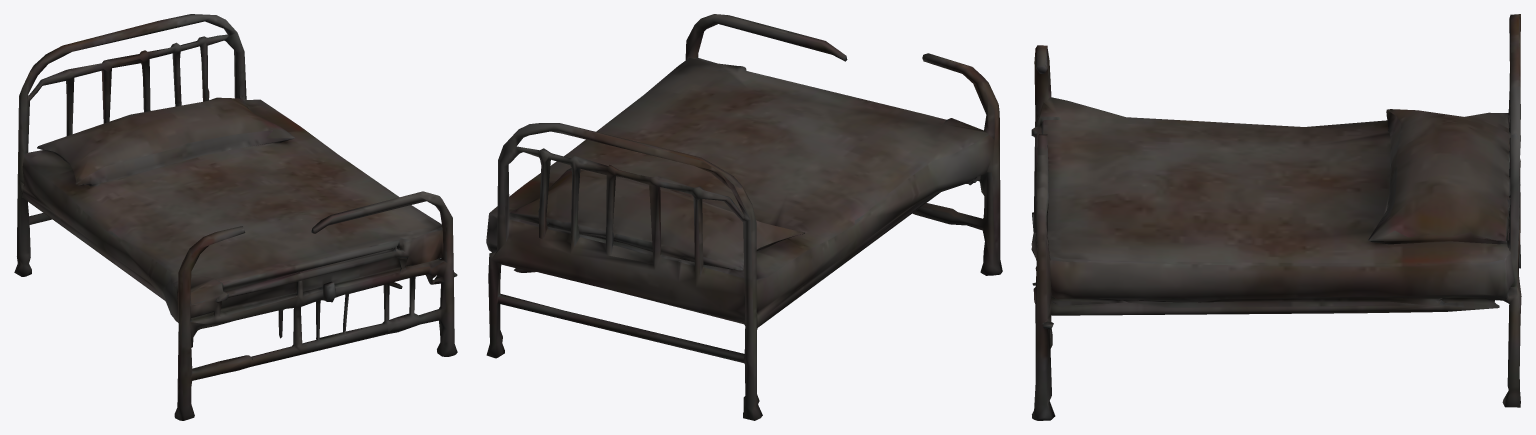
File: sturdy-iron-asylum-bed-v002.glb
3 views of the same model, side by side, from view 1: azimuth 30°, elevation 25°; view 2: azimuth 150°, elevation 25°; view 3: azimuth 270°, elevation 25° (orthographic). The views are drawn at different scales.
Visible parts, largest first — view 1: sturdy-iron-asylum-bed; view 2: sturdy-iron-asylum-bed; view 3: sturdy-iron-asylum-bed.
Part boxes in pixels (left/top/right/bottom): sturdy-iron-asylum-bed: left=14, top=14, right=457, bottom=420; sturdy-iron-asylum-bed: left=486, top=14, right=1002, bottom=420; sturdy-iron-asylum-bed: left=1031, top=14, right=1521, bottom=420.
Bounding box in the file's own units: 1.7 × 1.27 × 2.01.
Materials: 1 (1 with a texture image).
